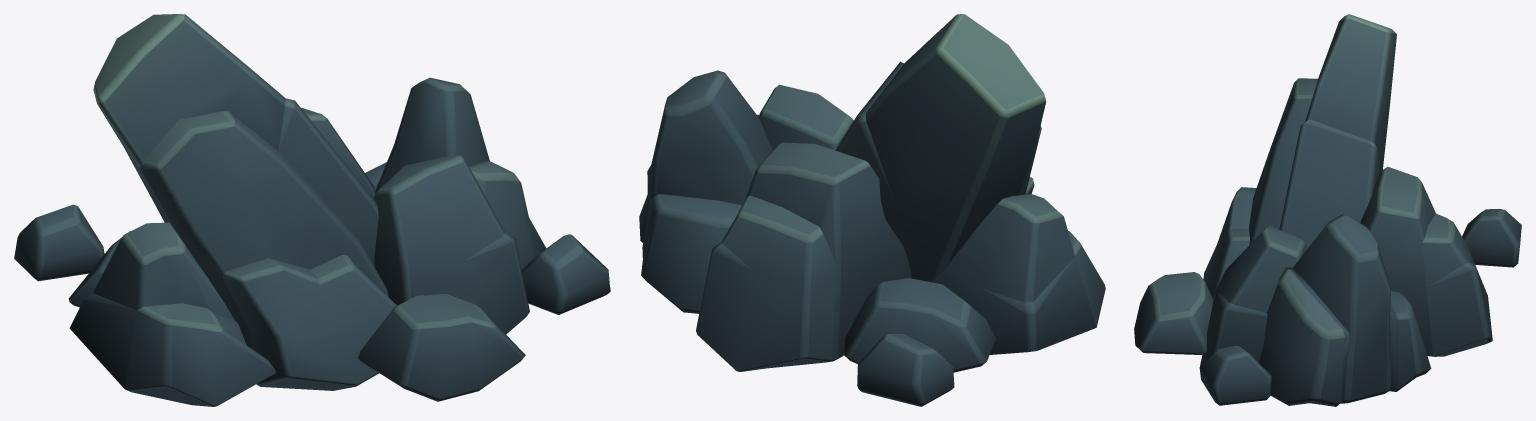
The model's file is rock_arrangement_medium_2.fbx.
3 renders of one model, left to right at view 1: azimuth 30°, elevation 25°; view 2: azimuth 150°, elevation 25°; view 3: azimuth 270°, elevation 25°, orthographic. The views are drawn at different scales.
Parts seen in each view (by area): view 1: rock_arrangement_medium_2; view 2: rock_arrangement_medium_2; view 3: rock_arrangement_medium_2.
Part boxes in pixels (x1,y1,x2,y2): rock_arrangement_medium_2: [14, 14, 610, 406]; rock_arrangement_medium_2: [639, 14, 1105, 406]; rock_arrangement_medium_2: [1134, 14, 1521, 406].
Bounding box in the file's own units: 652 × 488 × 598.
